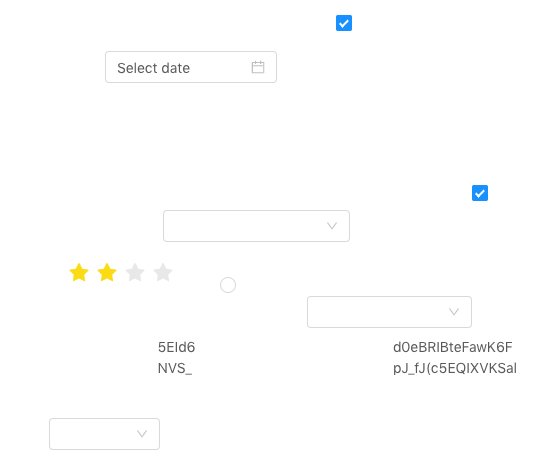Checkbox: (336, 12, 352, 33), (472, 182, 488, 203)
DatePicker: (105, 51, 277, 83)
Radio: (220, 274, 236, 294)
Rate: (69, 256, 189, 288)
Select: (163, 210, 350, 242), (307, 296, 472, 328), (49, 418, 160, 450)
Text: (393, 336, 519, 375), (158, 336, 199, 377)
